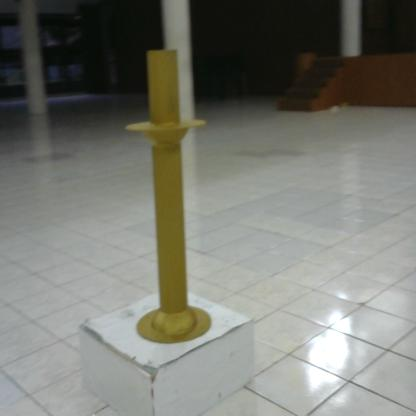pole: (116, 40, 223, 350)
